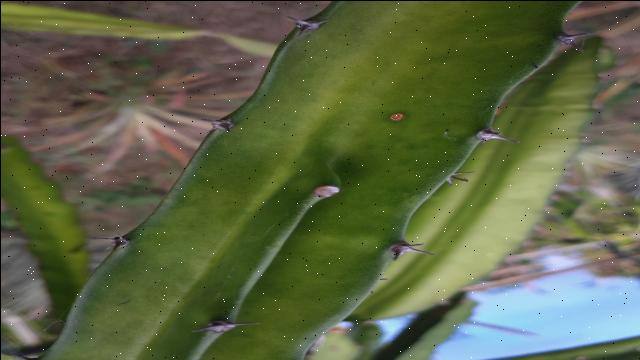stemcanker: (387, 111, 407, 123)
